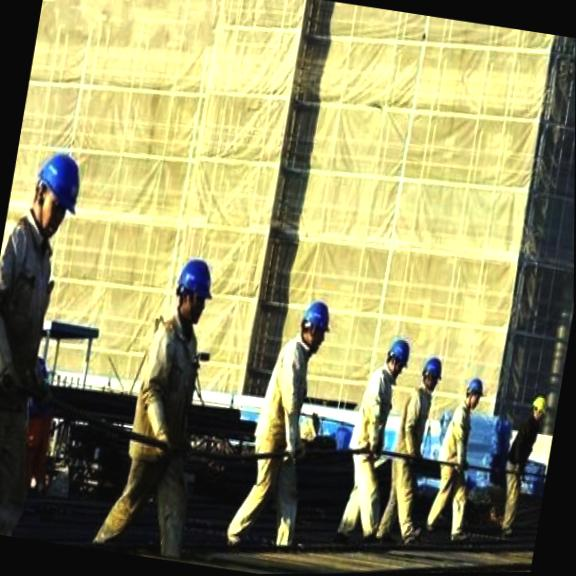no_safety_vest: (0, 235, 64, 453), (122, 326, 206, 484), (248, 352, 315, 470), (346, 372, 398, 464), (390, 388, 438, 482), (436, 410, 474, 485), (504, 412, 541, 477)
